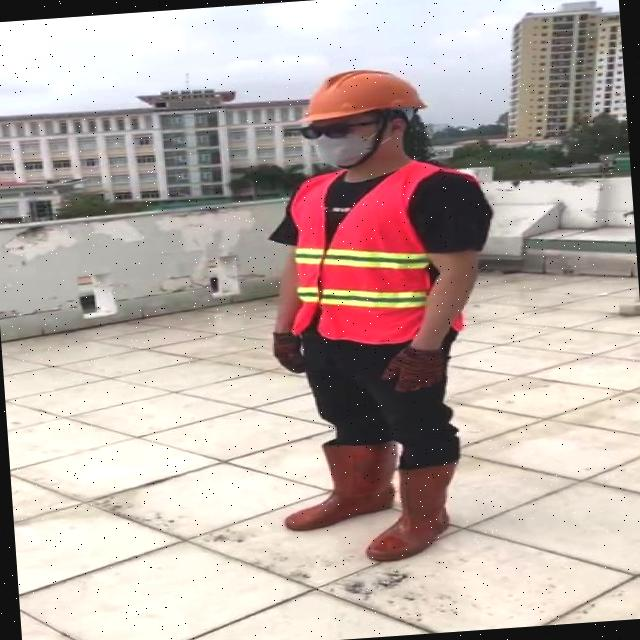boots: (278, 439, 398, 533), (360, 463, 464, 562)
helmet: (294, 59, 432, 128)
vest: (285, 160, 467, 348)
